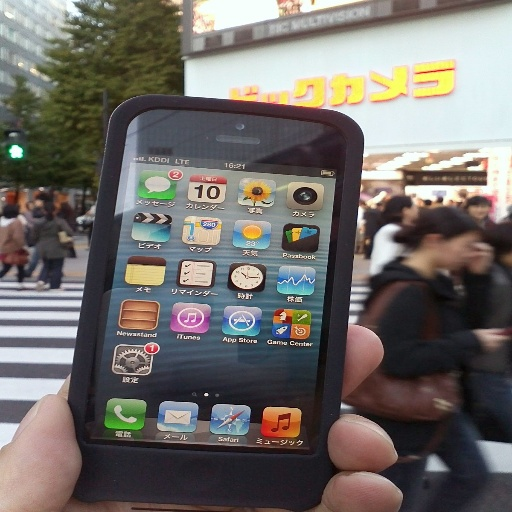hand: (0, 321, 402, 511), (463, 239, 496, 271), (476, 327, 511, 352)
